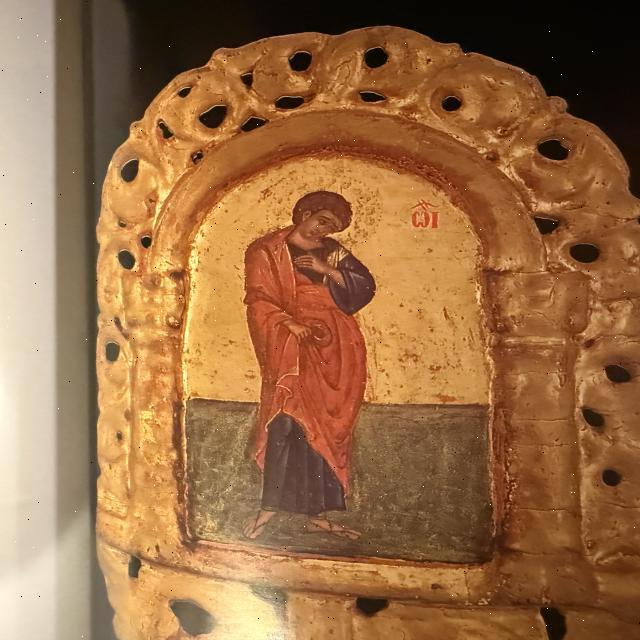aura: (263, 178, 383, 248)
saint: (212, 172, 401, 546)
